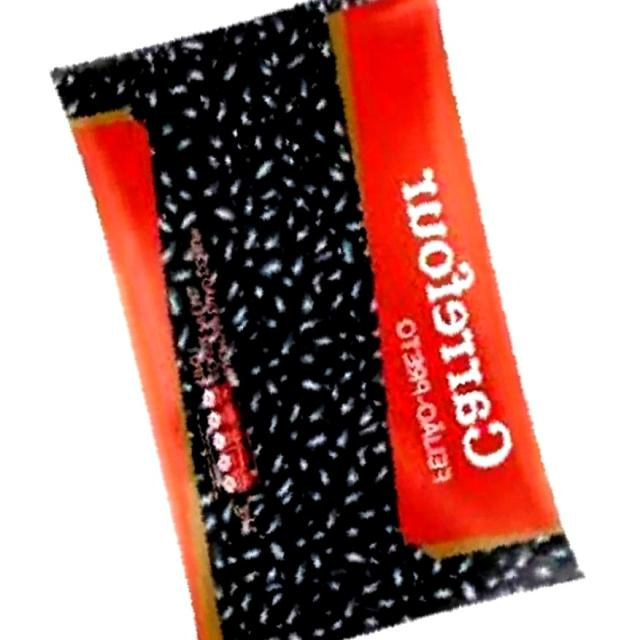beans package: (53, 0, 580, 639)
